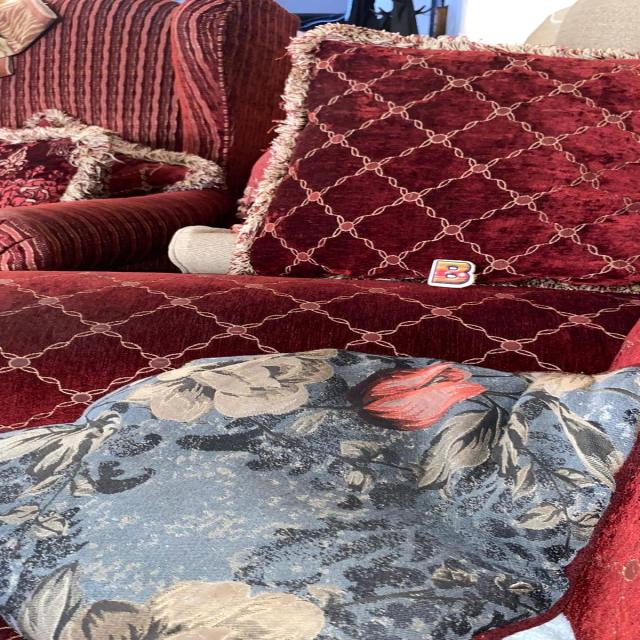B: (427, 259, 475, 288)
